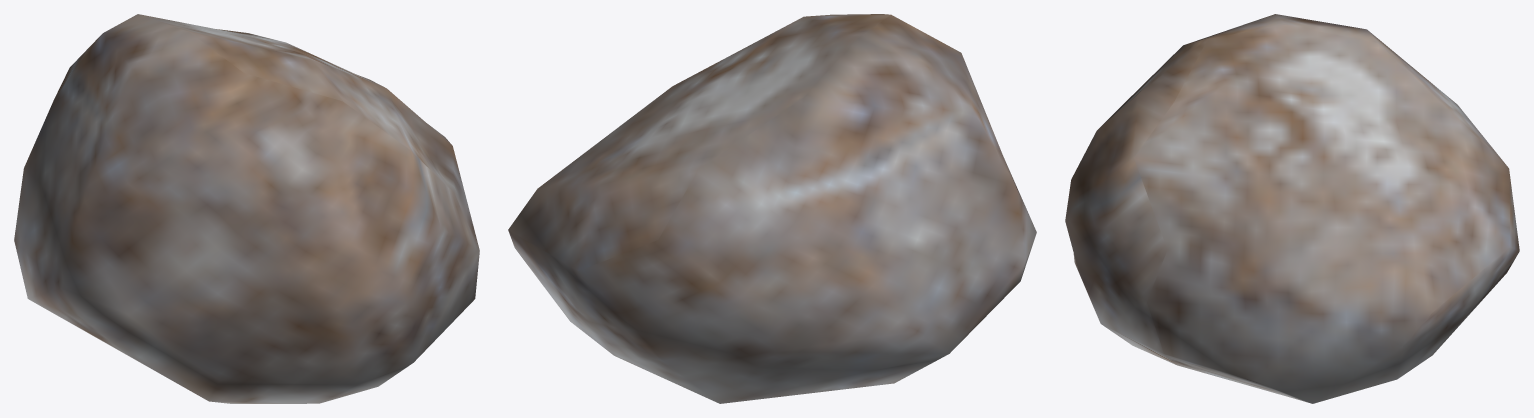
File: sb_obj_nature006_Stone02c.fbx
The picture shows the model from 3 angles, left to right: view 1: azimuth 30°, elevation 25°; view 2: azimuth 150°, elevation 25°; view 3: azimuth 270°, elevation 25°; orthographic projection. The views are drawn at different scales.
Visible parts, largest first — view 1: sb_obj_nature006_Stone02c; view 2: sb_obj_nature006_Stone02c; view 3: sb_obj_nature006_Stone02c.
Boxes of the visible parts, x1,y1,x2,y2 form: sb_obj_nature006_Stone02c: (14,14,479,403); sb_obj_nature006_Stone02c: (508,14,1036,403); sb_obj_nature006_Stone02c: (1065,14,1519,403).
Bounding box in the file's own units: 0.5292 × 0.39 × 0.5566.
